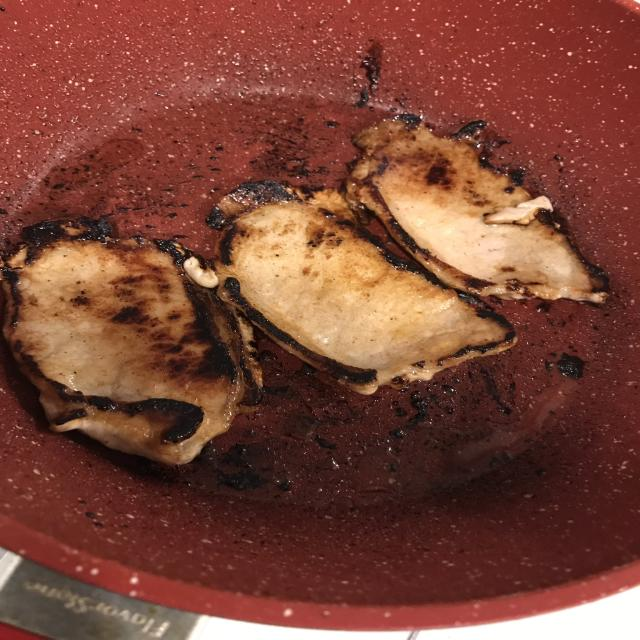OK cooked pork,: (193, 173, 526, 395), (2, 208, 258, 472), (326, 103, 640, 309)
